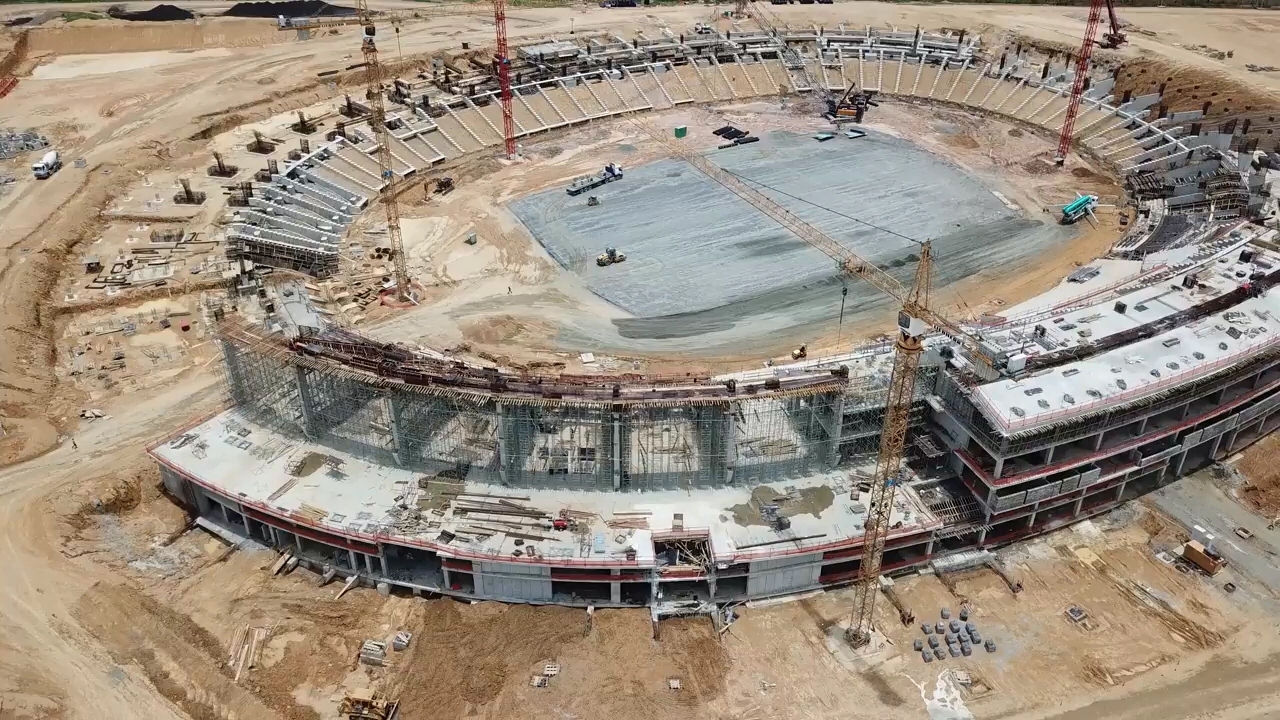ismakinesi: (335, 686, 402, 720)
kamyon: (568, 160, 628, 198), (30, 147, 65, 180)
traktor: (595, 243, 626, 265)
